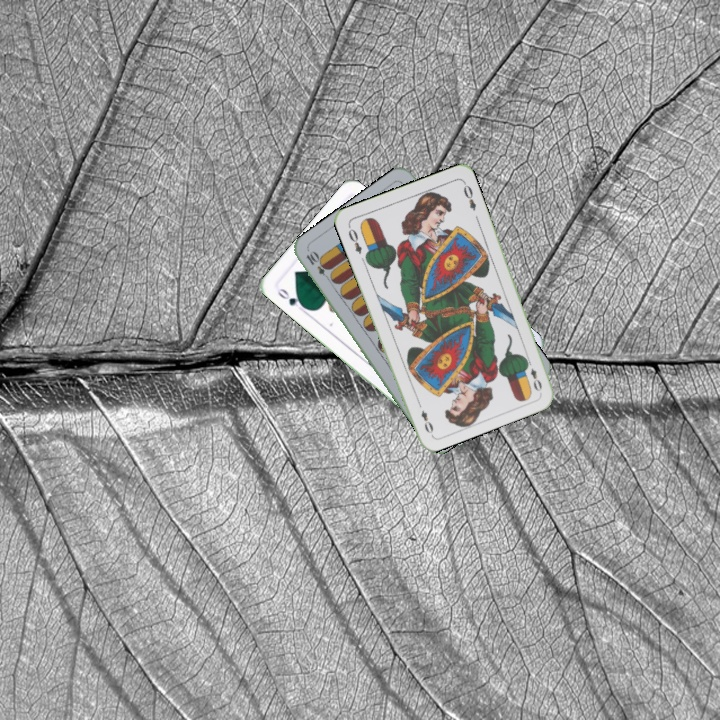E10: (302, 247, 334, 284)
EO: (522, 355, 544, 394), (344, 222, 364, 256)
GO: (273, 284, 308, 311)
